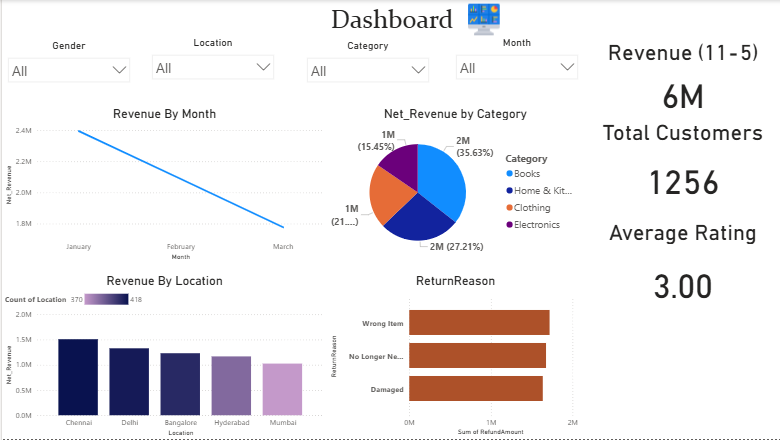

What the dashboard file says about the page in this screenshot:
{"tool":"powerbi","page":{"name":"Page 1","canvas":[1280,720],"ordinal":0},"visuals":[{"type":"textbox","box":[0,0,1280,63.8],"z":0},{"type":"image","box":[759.3,0,62.2,63.8],"z":1},{"type":"card","title":"Revenue (11-5)","fields":{"Values":["Sheet1 (3).Net_Revenue"]},"box":[955.8,63.8,324.2,131],"z":2},{"type":"card","title":"Total Customers","fields":{"Values":["Count(Sheet1 (3).CustomerID)"]},"box":[955.8,194.9,324.2,151.2],"z":3},{"type":"lineChart","title":"Revenue By Month","fields":{"Category":["Sheet1 (3).Month"],"Y":["Sheet1 (3).Net_Revenue"]},"box":[0,173.9,533.3,257.6],"z":4},{"type":"clusteredColumnChart","title":"Revenue By Location","fields":{"Category":["Sheet1.Location"],"Y":["Sheet1 (3).Net_Revenue"]},"box":[0,448,533.3,272.4],"z":5},{"type":"pieChart","fields":{"Category":["Sheet1 (2).Category"],"Y":["Sheet1 (3).Net_Revenue"]},"box":[533.3,173.9,421.7,257.6],"z":6},{"type":"slicer","title":"Gender","fields":{"Values":["Sheet1.Gender"]},"box":[0,64,220,109.9],"z":7},{"type":"slicer","title":"Location","fields":{"Values":["Sheet1.Location"]},"box":[236.3,59.1,219.9,114.9],"z":8},{"type":"slicer","title":"Category","fields":{"Values":["Sheet1 (2).Category"]},"box":[490.7,64,219.9,109.9],"z":9},{"type":"slicer","title":"Month","fields":{"Values":["Sheet1 (3).Month"]},"box":[735.2,59.1,219.9,114.9],"z":10},{"type":"card","title":"Average Rating","fields":{"Values":["Avg(Sheet1 (4).Rating)"]},"box":[955.1,359.4,324.9,164.1],"z":12},{"type":"barChart","title":"ReturnReason","fields":{"Category":["Sheet1 (5).ReturnReason"],"Y":["Sum(Sheet1 (5).RefundAmount)"]},"box":[533,448,422,272],"z":14}]}

Visuals, with their boxes in screenshot pixels (x1, y1, x2, y2), scaled from the page's 1280x720 canvas onto the 780x440 screenshot:
textbox: crop(0, 0, 779, 39)
image: crop(463, 0, 501, 39)
"Revenue (11-5)" card: crop(582, 39, 779, 119)
"Total Customers" card: crop(582, 119, 779, 212)
"Revenue By Month" lineChart: crop(0, 106, 325, 264)
"Revenue By Location" clusteredColumnChart: crop(0, 274, 325, 439)
pieChart - Sheet1 (2).Category x Sheet1 (3).Net_Revenue: crop(325, 106, 582, 264)
"Gender" slicer: crop(0, 39, 134, 106)
"Location" slicer: crop(144, 36, 278, 106)
"Category" slicer: crop(299, 39, 433, 106)
"Month" slicer: crop(448, 36, 582, 106)
"Average Rating" card: crop(582, 220, 779, 320)
"ReturnReason" barChart: crop(325, 274, 582, 439)
